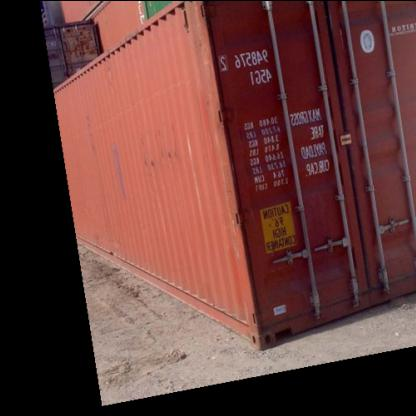Damage: (192, 6, 237, 250)
